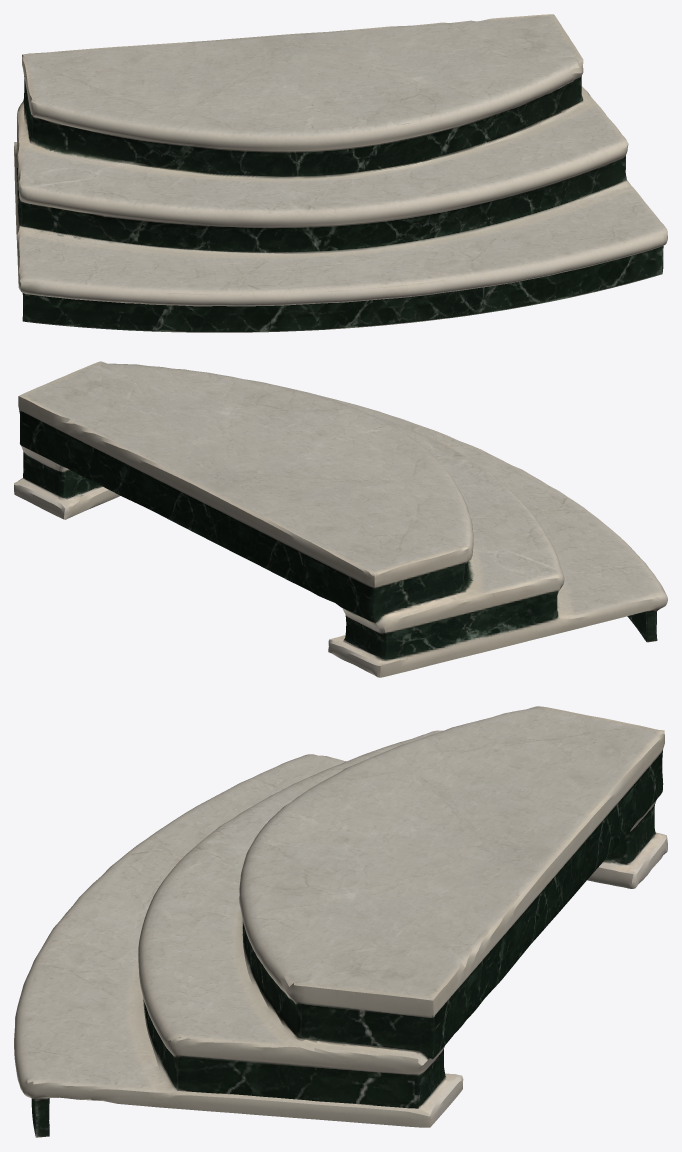
The model's file is Escalones.fbx.
3 renders of one model, top to bottom at view 1: azimuth 30°, elevation 25°; view 2: azimuth 150°, elevation 25°; view 3: azimuth 270°, elevation 25°, orthographic. The views are drawn at different scales.
Parts seen in each view (by area): view 1: Escalones; view 2: Escalones; view 3: Escalones.
Boxes of the visible parts, left/top/right/bottom form: Escalones: left=14, top=14, right=667, bottom=332; Escalones: left=14, top=361, right=667, bottom=677; Escalones: left=14, top=706, right=667, bottom=1137.
Bounding box in the file's own units: 29.41 × 6.36 × 22.44.
